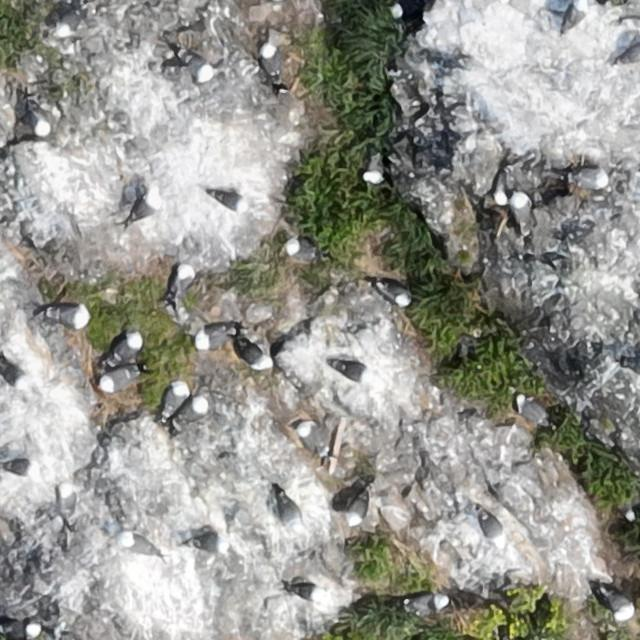umineko: (171, 396, 214, 434), (276, 496, 313, 540), (180, 52, 215, 86), (22, 98, 52, 136), (558, 2, 592, 34), (512, 194, 537, 233), (604, 588, 634, 619), (237, 340, 269, 369), (494, 168, 517, 205), (112, 334, 142, 362), (517, 398, 548, 425), (406, 593, 445, 613), (196, 328, 230, 350), (380, 283, 411, 307), (52, 306, 88, 326), (162, 385, 185, 416), (103, 369, 135, 391), (124, 536, 159, 556), (185, 535, 224, 552), (286, 238, 316, 260), (130, 196, 155, 222), (261, 44, 280, 78), (574, 170, 606, 190), (333, 362, 366, 381), (476, 514, 502, 538), (346, 495, 366, 525), (57, 10, 81, 35), (1, 362, 26, 386), (213, 191, 244, 210), (297, 424, 318, 451), (173, 265, 191, 296), (3, 460, 35, 477), (364, 156, 384, 183), (290, 583, 319, 600), (60, 486, 73, 515), (619, 47, 640, 64), (391, 3, 405, 24)
